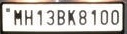character: (13, 8, 23, 26), (77, 9, 87, 26), (24, 9, 33, 26), (46, 9, 55, 26), (67, 9, 76, 26), (99, 9, 108, 26), (110, 9, 119, 25), (57, 9, 65, 26), (37, 9, 44, 26), (90, 9, 97, 26)
